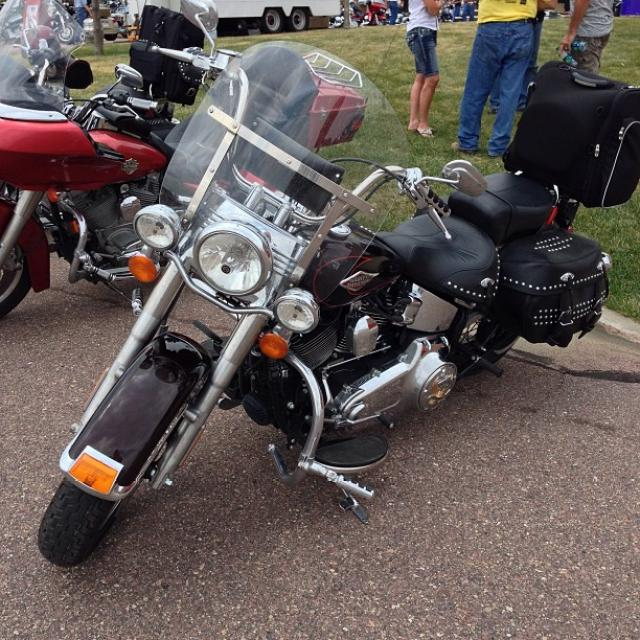motor: (39, 46, 624, 577), (1, 57, 187, 316)
